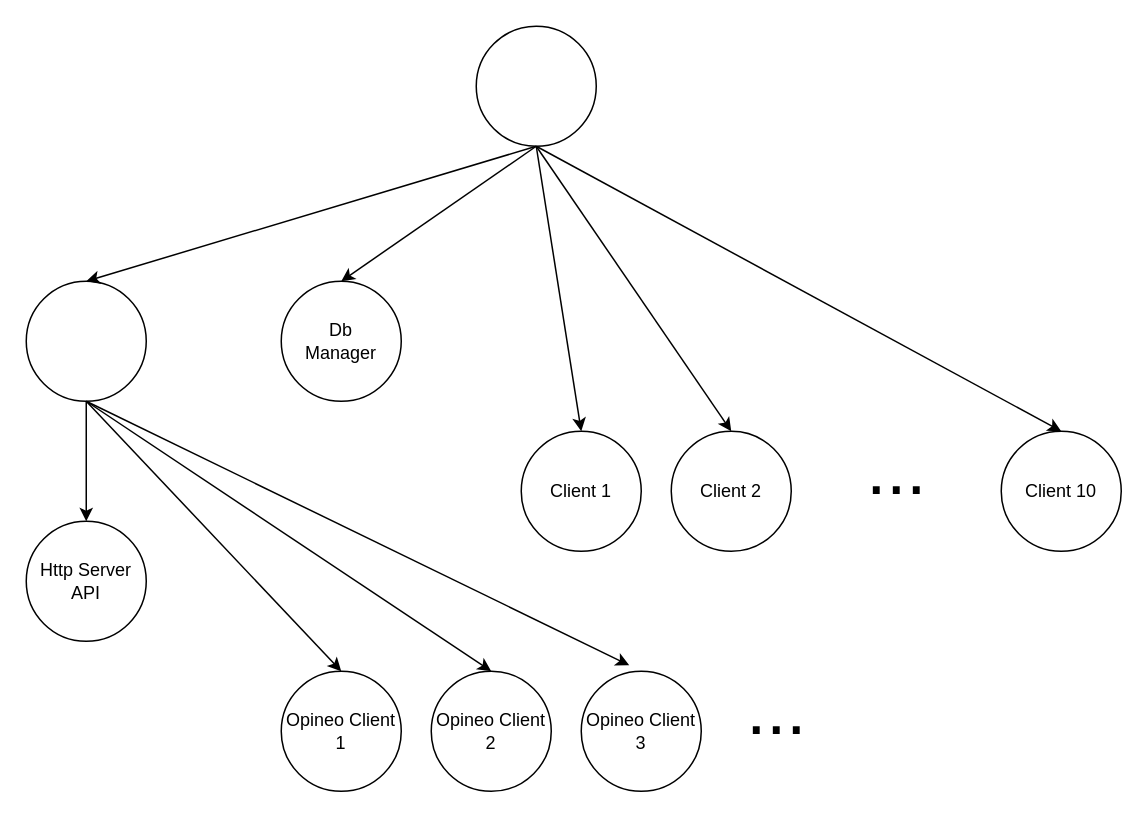
The diagram is 1148 pixels wide and 818 high, and some of its shapes have lost their labels. The centre of each missing label's shape, as x and y in pixels:
"Price Comparer" goes at (535,85).
"Server" goes at (85,340).
